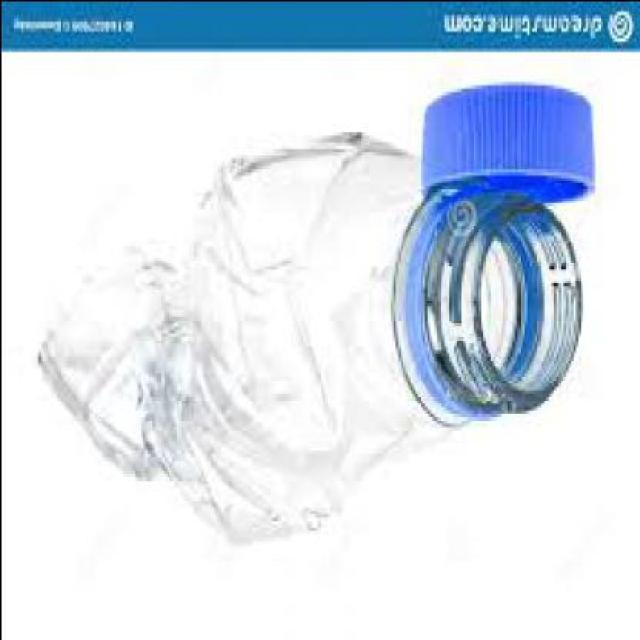PLASTIC: (39, 131, 584, 552), (424, 87, 596, 215)
